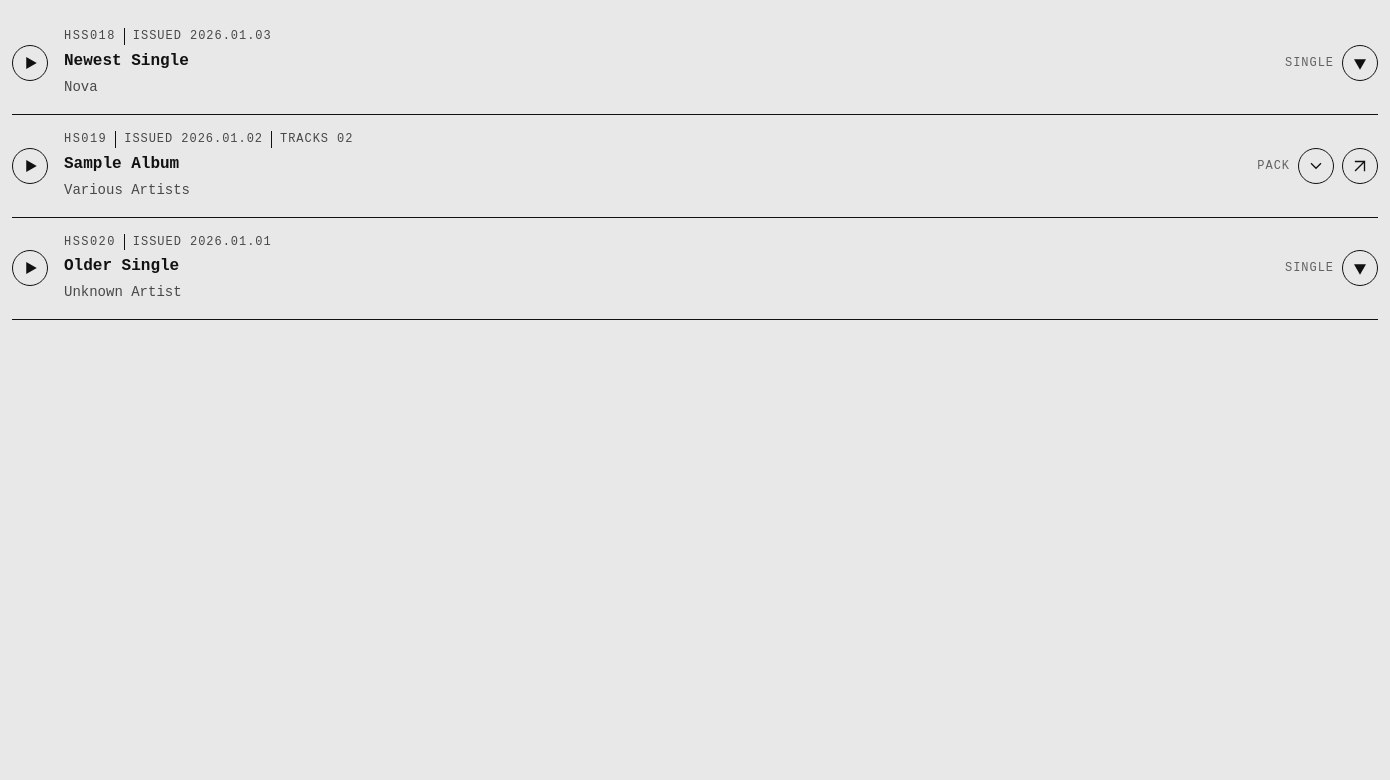
FeedList playback queue › links the accordion toggle to its panel and disables collapsed controls
Click the button named "Expand tracks" at (1316, 166), box [1298,148,1334,184]
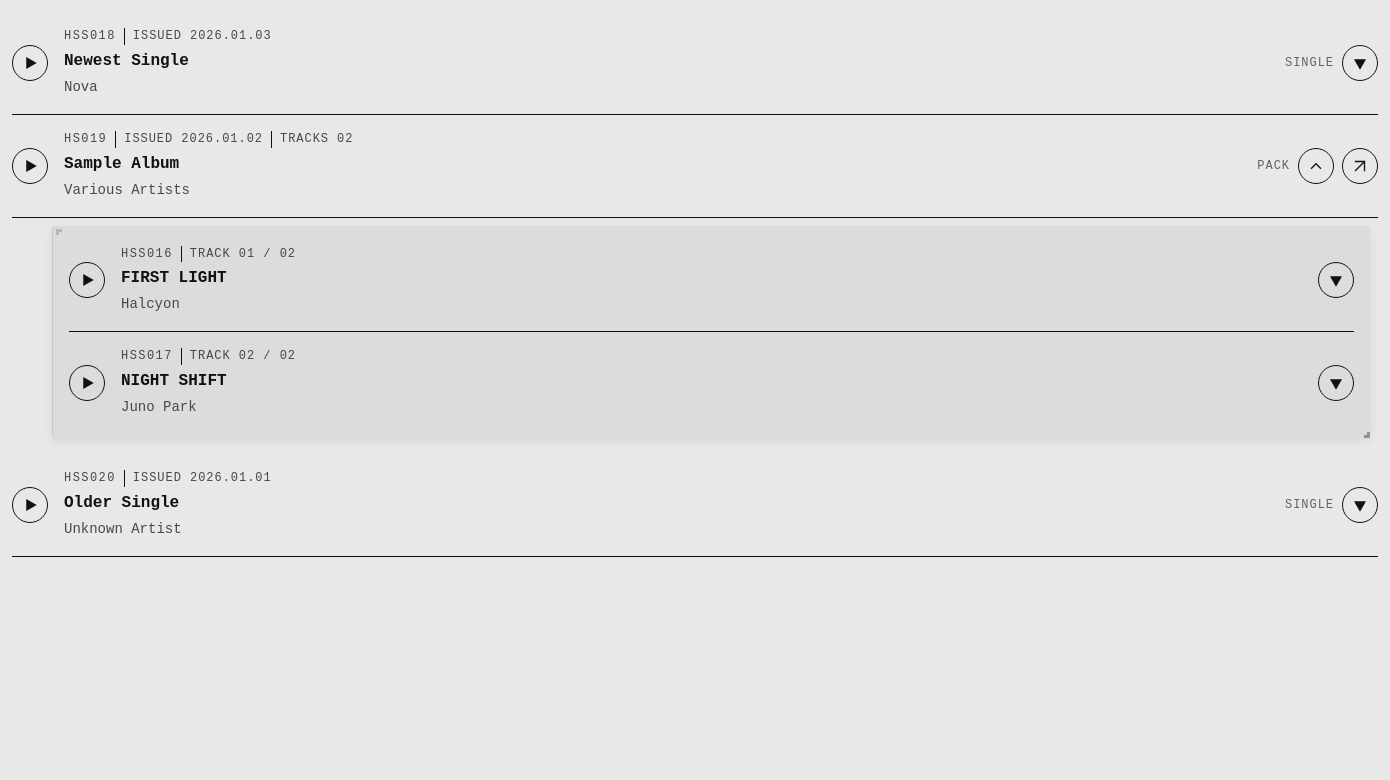
Expected: the button named "Expand tracks" is expanded
Expected: the button named "Play NIGHT SHIFT" is shown, [69,365,105,401]
Click the button named "Expand tracks" at (1316, 166), box [1298,148,1334,184]
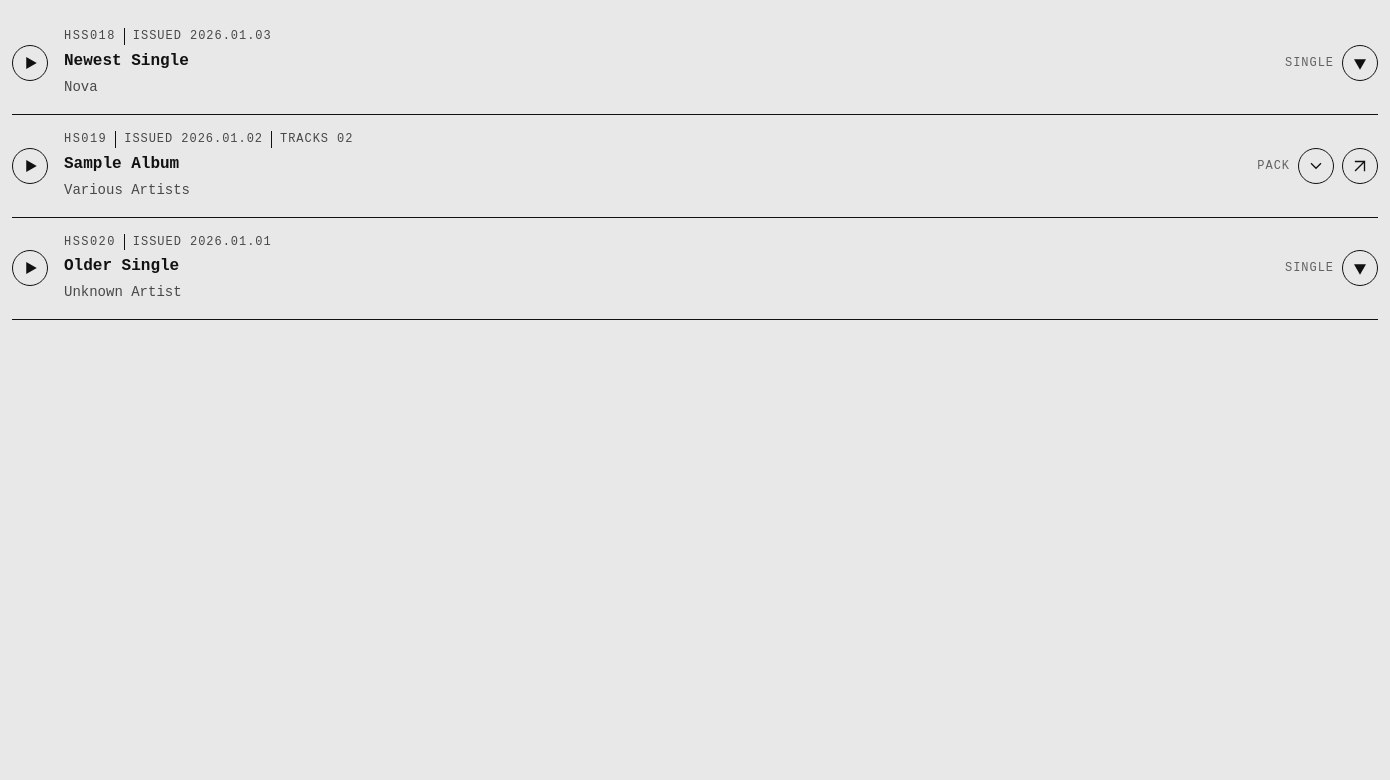
Expected: the button named "Expand tracks" is collapsed, [1298,148,1334,184]
